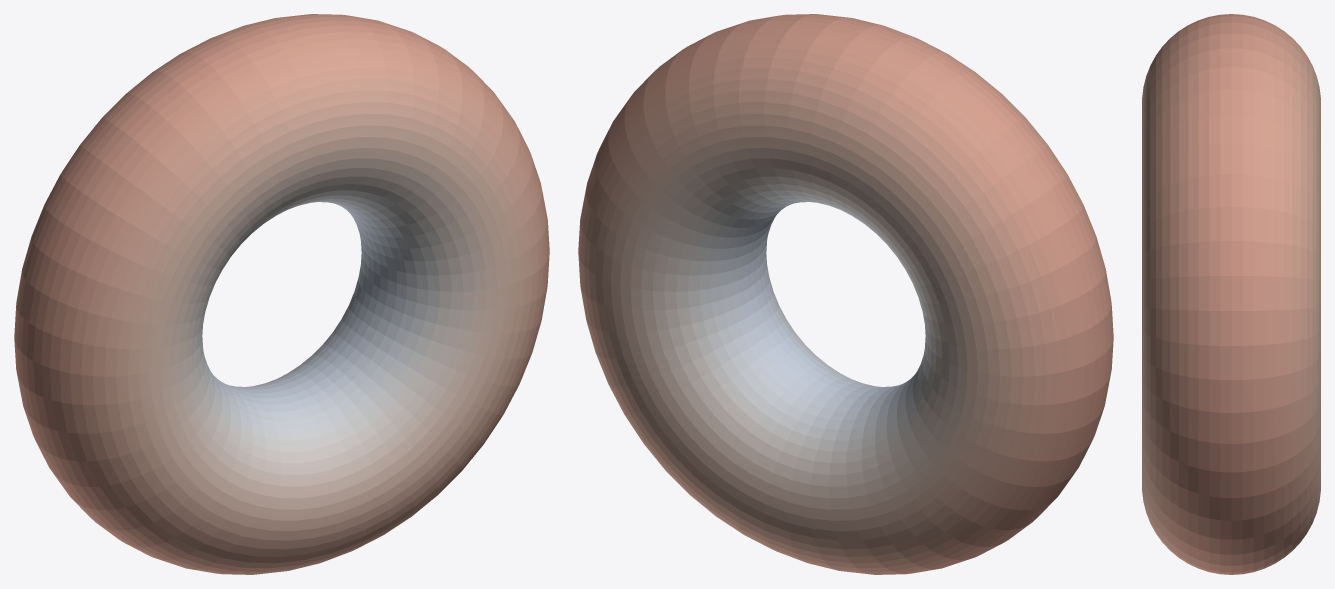
3 views of the same model, side by side, from view 1: azimuth 30°, elevation 25°; view 2: azimuth 150°, elevation 25°; view 3: azimuth 270°, elevation 25° (orthographic). The views are drawn at different scales.
Parts seen in each view (by area): view 1: world; view 2: world; view 3: world.
Boxes of the visible parts, x1,y1,x2,y2 form: world: (14,14,549,574); world: (578,14,1113,574); world: (1142,14,1320,574).
Size of the model in its own units: 25.47 by 25.42 by 8.12.
